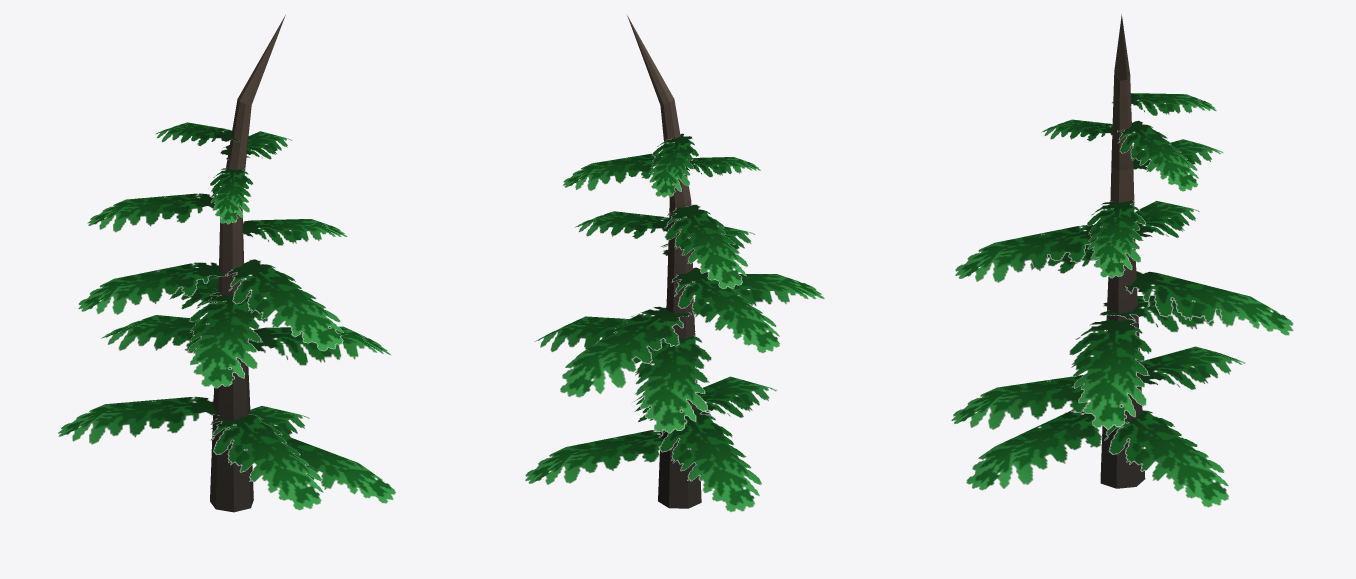
File: Conifer.glb
3 renders of one model, left to right at view 1: azimuth 30°, elevation 25°; view 2: azimuth 150°, elevation 25°; view 3: azimuth 270°, elevation 25°, orthographic. The views are drawn at different scales.
Parts seen in each view (by area): view 1: Trunk; view 2: Trunk; view 3: Trunk.
Part boxes in pixels (x1=…): Trunk: x1=58, y1=15, x2=396, y2=512; Trunk: x1=525, y1=15, x2=824, y2=512; Trunk: x1=951, y1=14, x2=1293, y2=507.
Bounding box in the file's own units: 6.94 × 8.89 × 7.11.
Materials: 1 (1 with a texture image).
